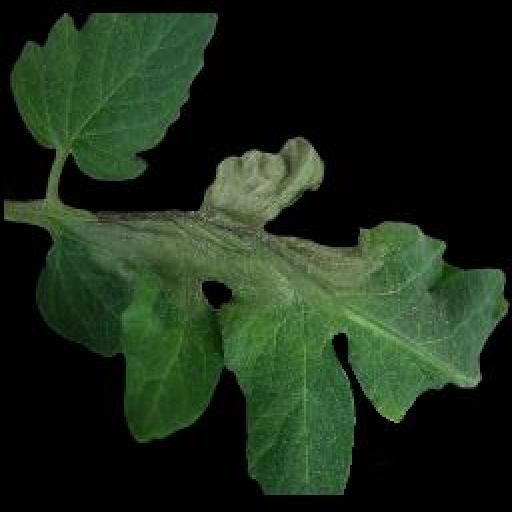disease_tomato: (36, 134, 512, 492)
